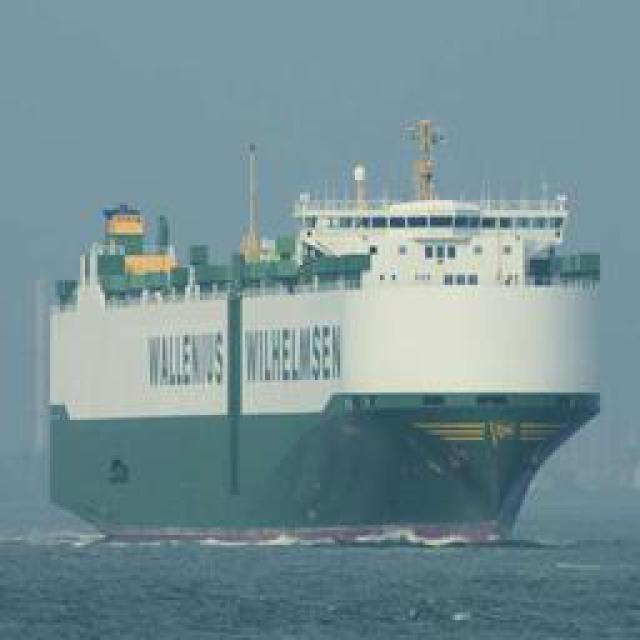Ship: (26, 105, 601, 568)
